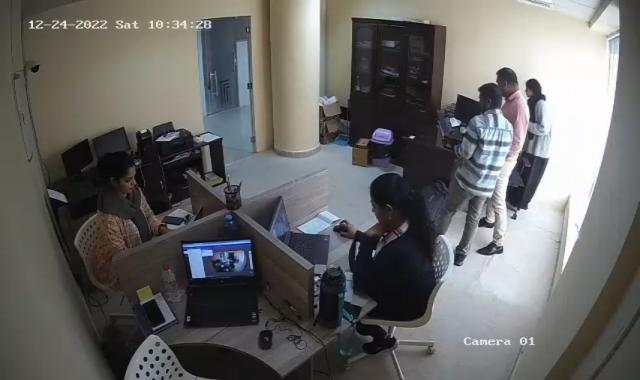no_hairnet: (369, 171, 415, 226), (96, 152, 138, 196), (480, 83, 503, 114), (495, 69, 520, 97), (523, 79, 545, 102)
